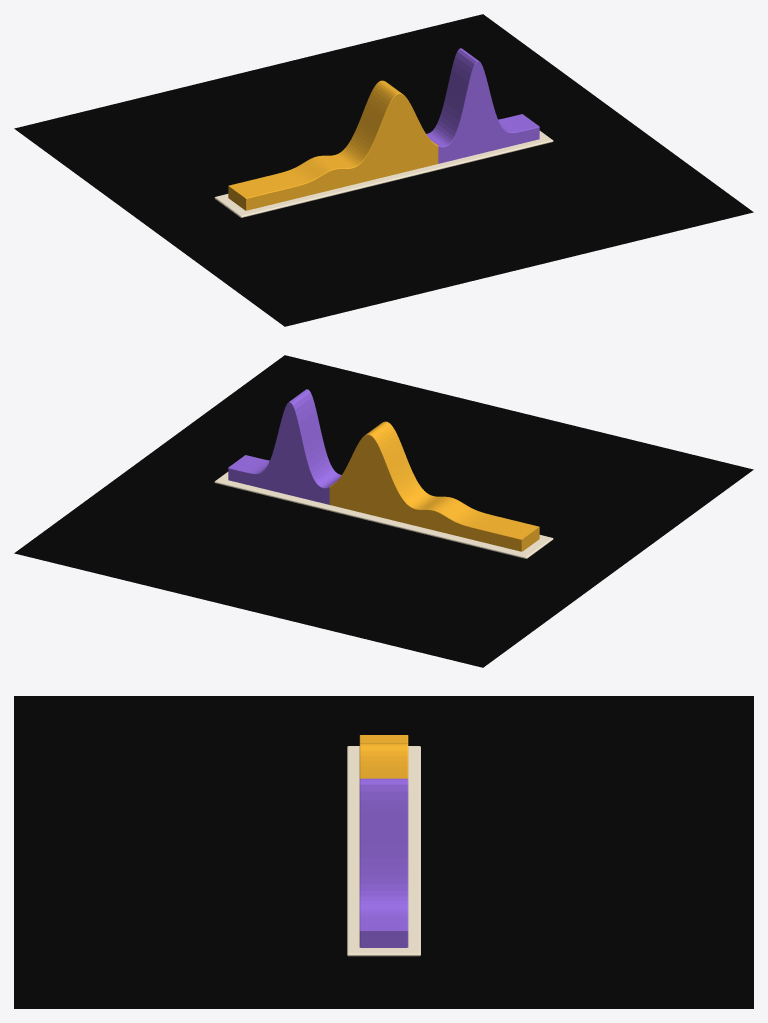
The model's file is sett-scroll-twee-pieken.glb.
The picture shows the model from 3 angles, top to bottom: view 1: azimuth 30°, elevation 25°; view 2: azimuth 150°, elevation 25°; view 3: azimuth 270°, elevation 25°; orthographic projection. The views are drawn at different scales.
Parts seen in each view (by area): view 1: contact_shadow, scroll_grow, object 2; view 2: contact_shadow, scroll_grow, object 2; view 3: contact_shadow, scroll_grow, object 2.
Part boxes in pixels (x1,y1,x2,y2): contact_shadow: [14, 14, 753, 326]; scroll_grow: [228, 48, 539, 210]; object 2: [214, 131, 553, 217]; contact_shadow: [14, 355, 753, 667]; scroll_grow: [228, 389, 539, 551]; object 2: [214, 472, 553, 558]; contact_shadow: [14, 696, 753, 1008]; scroll_grow: [359, 735, 408, 947]; object 2: [347, 746, 420, 956].
Size of the model in its own units: 2400 by 465 by 2400.
4 materials, 1 textured.
